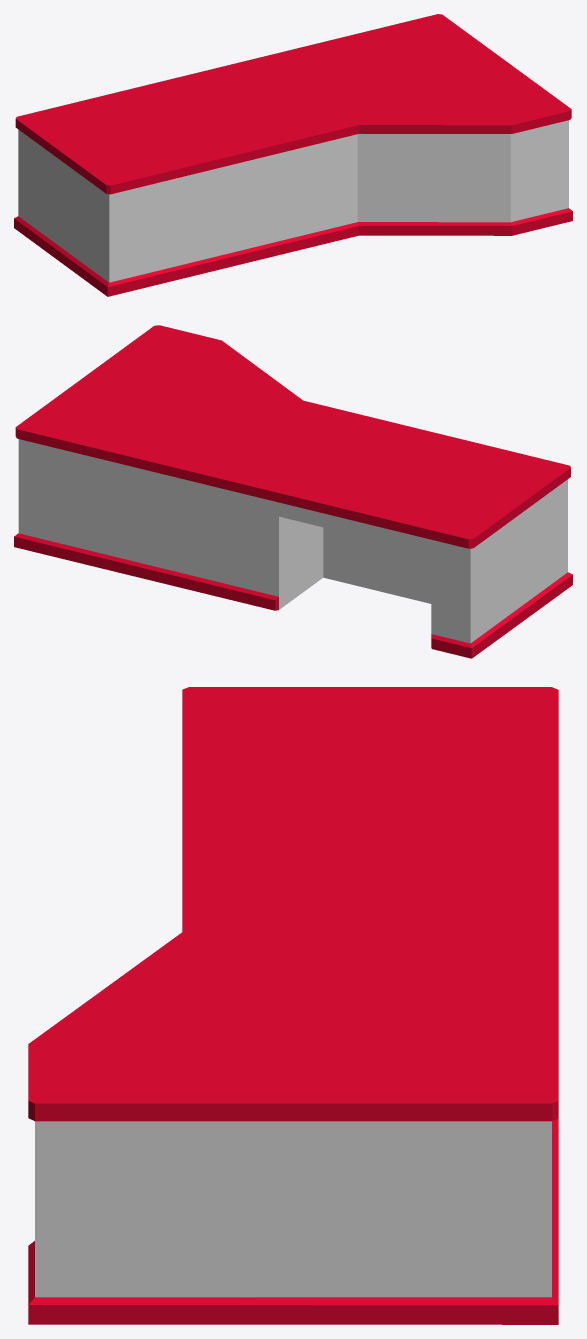
File: CEON_BLOC_D.glb
The picture shows the model from 3 angles, top to bottom: view 1: azimuth 30°, elevation 25°; view 2: azimuth 150°, elevation 25°; view 3: azimuth 270°, elevation 25°; orthographic projection. The views are drawn at different scales.
Visible parts, largest first — view 1: BUILDING D; view 2: BUILDING D; view 3: BUILDING D.
Part boxes in pixels (<box>): BUILDING D: <box>14,14,572,296</box>; BUILDING D: <box>14,325,572,658</box>; BUILDING D: <box>28,687,558,1324</box>.
Size of the model in its own units: 15.24 by 3.77 by 8.19.
